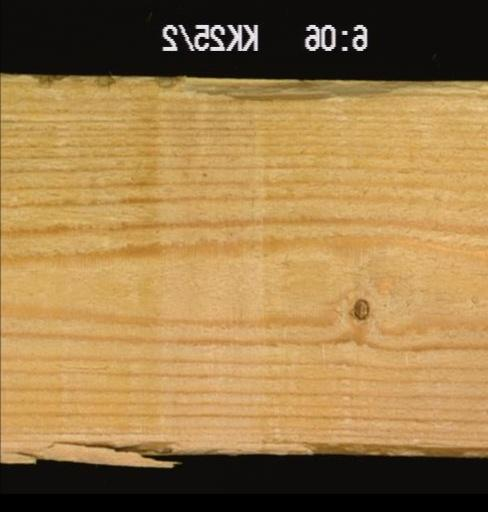dry_knot: (352, 293, 371, 319)
wave: (157, 78, 486, 101), (245, 426, 486, 454), (0, 426, 182, 452)
